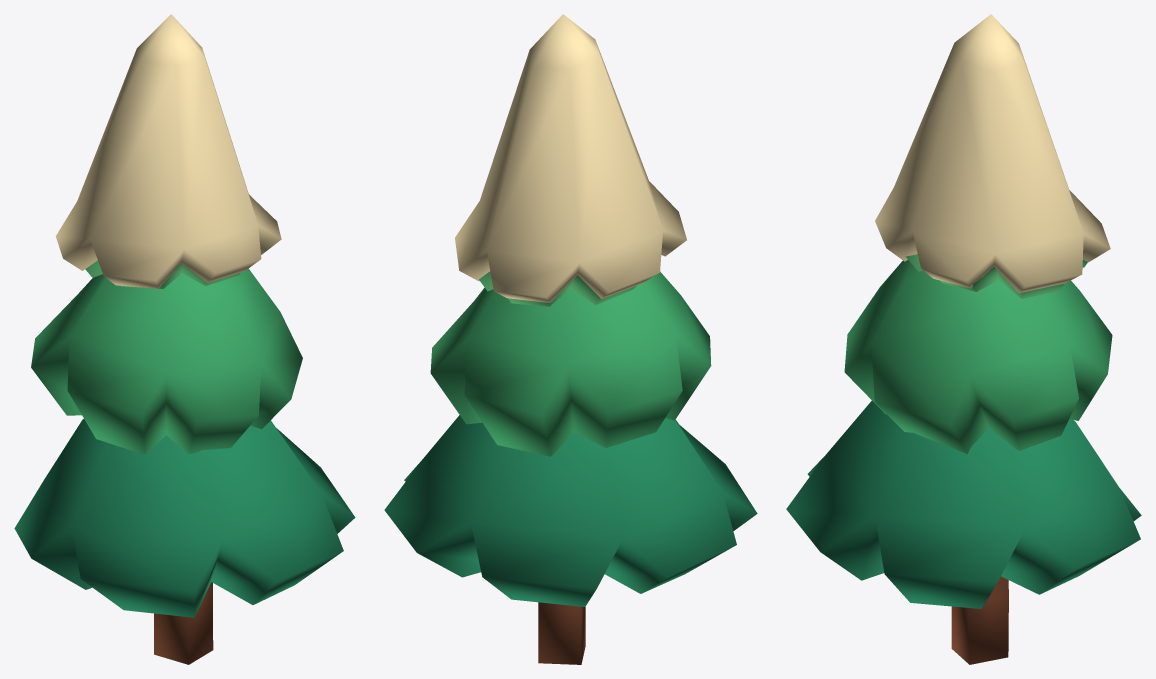
The model's file is treesnow4.fbx.
3 renders of one model, left to right at view 1: azimuth 30°, elevation 25°; view 2: azimuth 150°, elevation 25°; view 3: azimuth 270°, elevation 25°, orthographic.
Visible parts, largest first — view 1: tree1.001; view 2: tree1.001; view 3: tree1.001.
Boxes of the visible parts, bbox=[...] form: tree1.001: bbox=[14, 14, 355, 664]; tree1.001: bbox=[384, 14, 757, 664]; tree1.001: bbox=[786, 14, 1141, 664].
Bounding box in the file's own units: 38.46 × 76.01 × 38.4.
